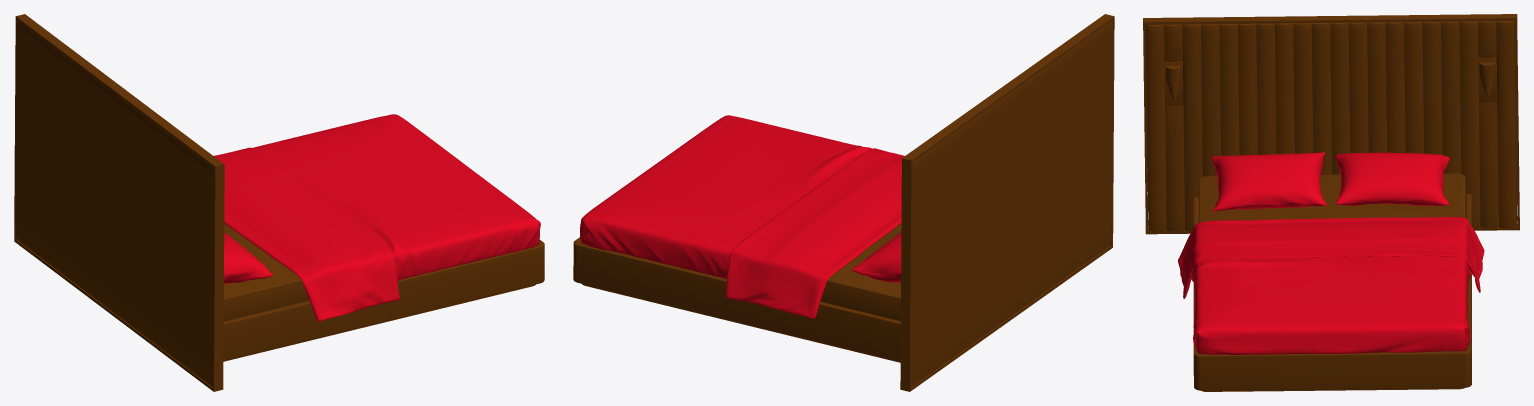
The model's file is cama.obj.
3 renders of one model, left to right at view 1: azimuth 30°, elevation 25°; view 2: azimuth 150°, elevation 25°; view 3: azimuth 270°, elevation 25°, orthographic. The views are drawn at different scales.
Parts seen in each view (by area): view 1: Cube, Cube_002; view 2: Cube, Cube_002; view 3: Cube, Cube_002.
Part boxes in pixels (x1,y1,x2,y2): Cube: (14,14,544,391); Cube_002: (214,114,540,321); Cube: (573,14,1114,391); Cube_002: (580,115,904,318); Cube: (1143,14,1519,391); Cube_002: (1178,152,1484,354).
Bounding box in the file's own units: 8.17 × 5.02 × 7.93.
Materials: 2 (2 with a texture image).
